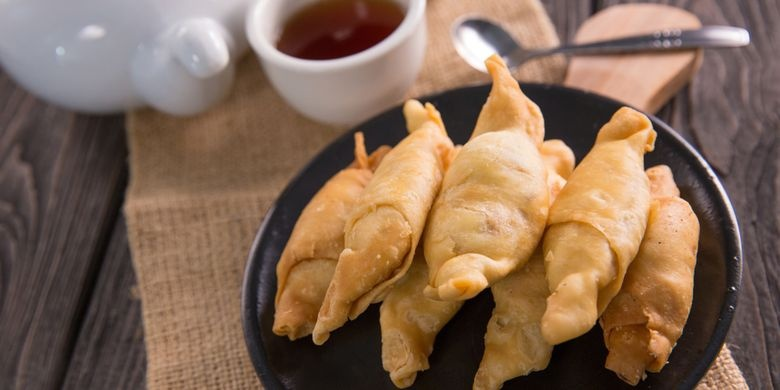pisang_molen: (305, 100, 450, 340), (427, 58, 547, 303), (540, 108, 657, 344)
